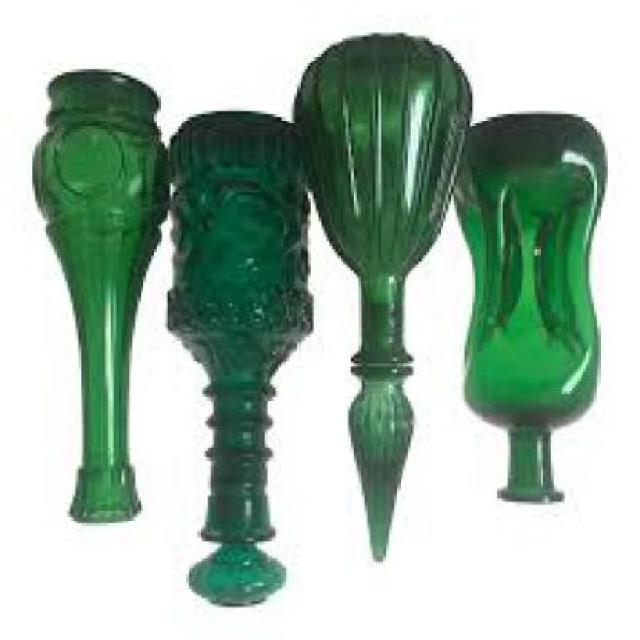glass: (292, 37, 471, 566), (163, 112, 317, 608), (29, 72, 168, 526), (449, 113, 606, 504)
